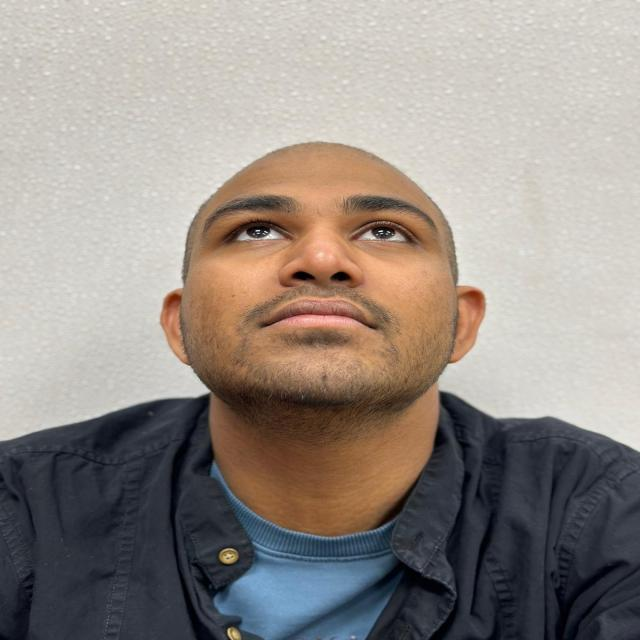nocap: (169, 136, 476, 251)
